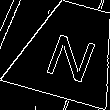N_N: (39, 21, 101, 81)
